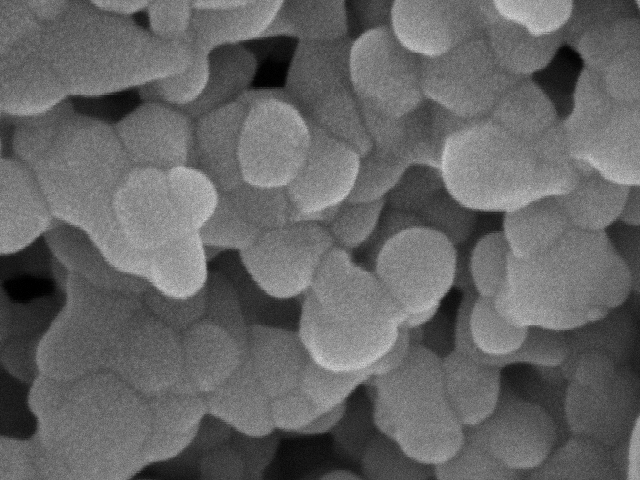nano: (231, 98, 311, 190), (375, 225, 461, 309)
